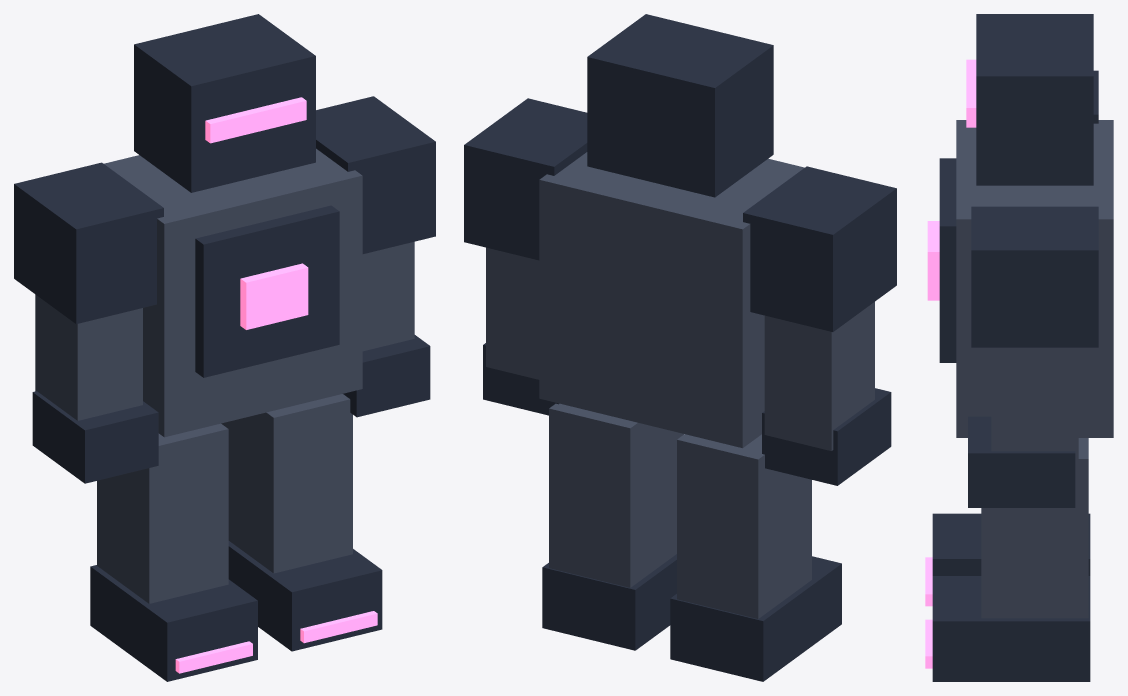
The model's file is guardian.gltf.
3 renders of one model, left to right at view 1: azimuth 30°, elevation 25°; view 2: azimuth 150°, elevation 25°; view 3: azimuth 270°, elevation 25°, orthographic. The views are drawn at different scales.
Parts seen in each view (by area): view 1: Heavy_armor, Head_armor, Right_leg, Left_pauldron, Left_leg, Chest, Right_pauldron, Left_foot, Left_arm, Right_foot, Left_hand, Right_arm (+5 smaller); view 2: Heavy_armor, Head_armor, Left_leg, Right_leg, Left_pauldron, Right_pauldron, Left_arm, Left_foot, Right_foot, Right_arm, Left_hand, Right_hand; view 3: Head_armor, Right_pauldron, Heavy_armor, Right_leg, Right_foot, Right_arm, Right_hand, Chest, Left_foot, Core, Eye, Left_light (+2 smaller).
Boxes of the visible parts, x1,y1,x2,y2 form: Heavy_armor: [104, 148, 362, 437]; Head_armor: [134, 14, 315, 192]; Right_leg: [221, 394, 352, 573]; Left_pauldron: [14, 162, 163, 324]; Left_leg: [97, 423, 228, 603]; Chest: [195, 205, 339, 377]; Right_pauldron: [316, 96, 435, 253]; Left_foot: [90, 565, 257, 681]; Left_arm: [35, 294, 142, 420]; Right_foot: [228, 541, 382, 651]; Left_hand: [32, 391, 158, 483]; Right_arm: [362, 241, 414, 351]; Heavy_armor: [539, 152, 804, 448]; Head_armor: [587, 14, 773, 197]; Left_leg: [677, 434, 811, 618]; Right_leg: [549, 403, 683, 587]; Left_pauldron: [743, 166, 896, 331]; Right_pauldron: [464, 98, 587, 260]; Left_arm: [764, 302, 874, 450]; Left_foot: [670, 556, 841, 681]; Right_foot: [542, 554, 676, 650]; Right_arm: [486, 247, 539, 379]; Left_hand: [762, 388, 891, 485]; Right_hand: [483, 343, 559, 415]; Head_armor: [976, 14, 1093, 185]; Right_pauldron: [971, 206, 1098, 347]; Heavy_armor: [956, 120, 1113, 437]; Right_leg: [981, 438, 1088, 618]; Right_foot: [932, 576, 1090, 681]; Right_arm: [991, 347, 1078, 470]; Right_hand: [968, 416, 1075, 507]; Chest: [939, 158, 956, 362]; Left_foot: [932, 513, 1090, 575]; Core: [927, 221, 939, 300]; Eye: [966, 59, 976, 127]; Left_light: [925, 557, 932, 606].
Bounding box in the file's own units: 1.27 × 1.92 × 0.5625.
